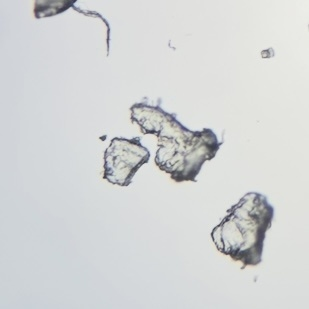microplastic: (130, 97, 224, 182), (210, 193, 274, 270), (34, 1, 111, 57), (103, 137, 150, 186), (261, 47, 275, 58), (99, 134, 108, 142)
